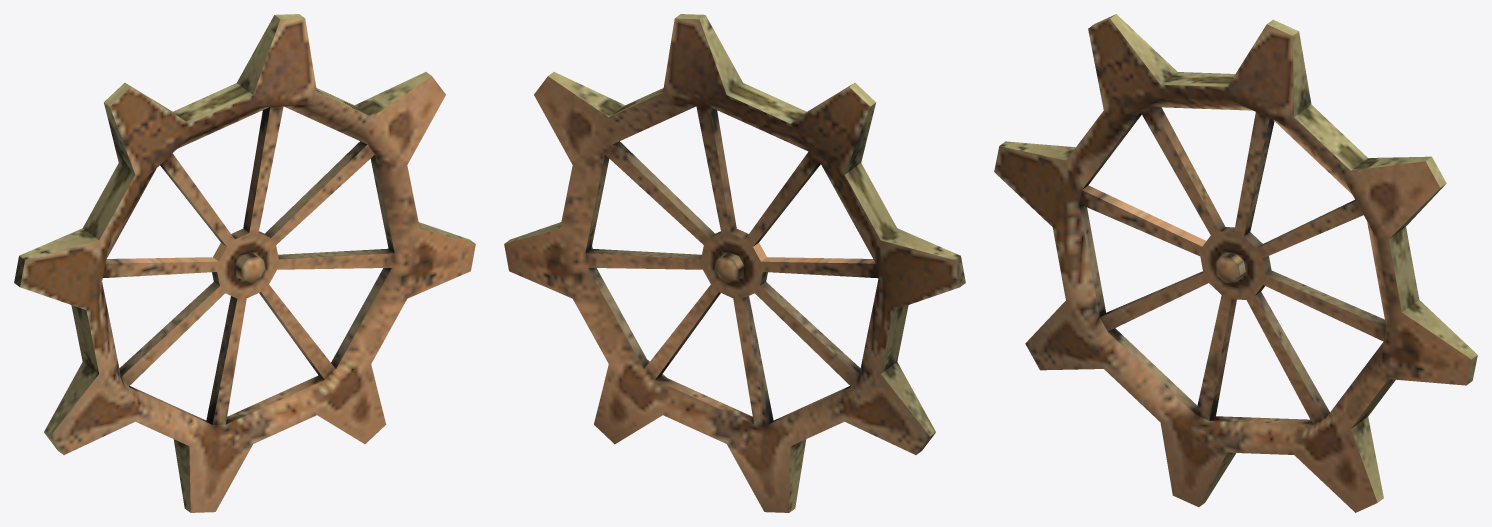
The model's file is EngranajeMediano.obj.
3 renders of one model, left to right at view 1: azimuth 30°, elevation 25°; view 2: azimuth 150°, elevation 25°; view 3: azimuth 330°, elevation 25°, orthographic. The views are drawn at different scales.
Visible parts, largest first — view 1: pegado_al_grande_Material_#3; view 2: pegado_al_grande_Material_#3; view 3: pegado_al_grande_Material_#3.
Boxes of the visible parts, bbox=[...] form: pegado_al_grande_Material_#3: bbox=[14, 14, 475, 512]; pegado_al_grande_Material_#3: bbox=[504, 14, 965, 512]; pegado_al_grande_Material_#3: bbox=[994, 14, 1477, 512].
Bounding box in the file's own units: 7.34 × 7.34 × 0.6369.
